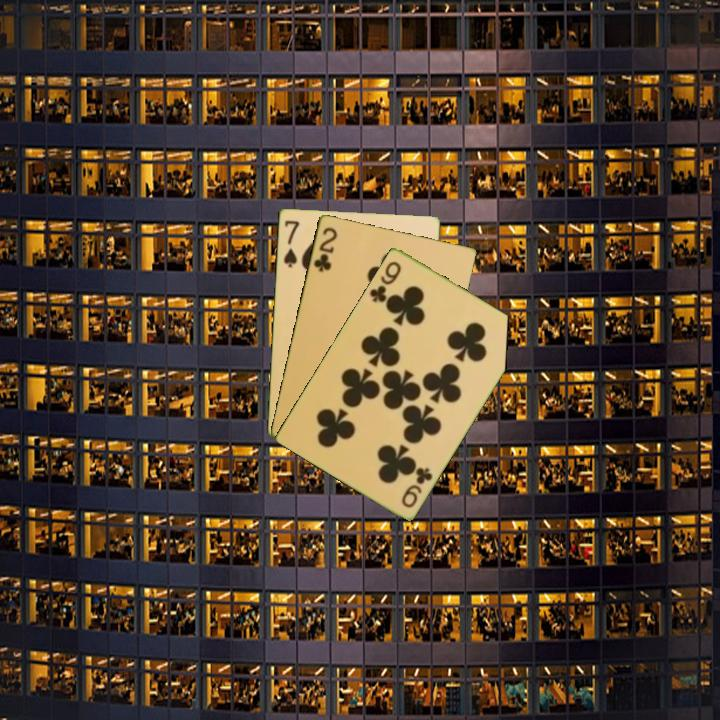2c: (310, 223, 340, 274)
7s: (280, 216, 302, 270)
9c: (366, 257, 404, 305), (398, 463, 436, 511)
